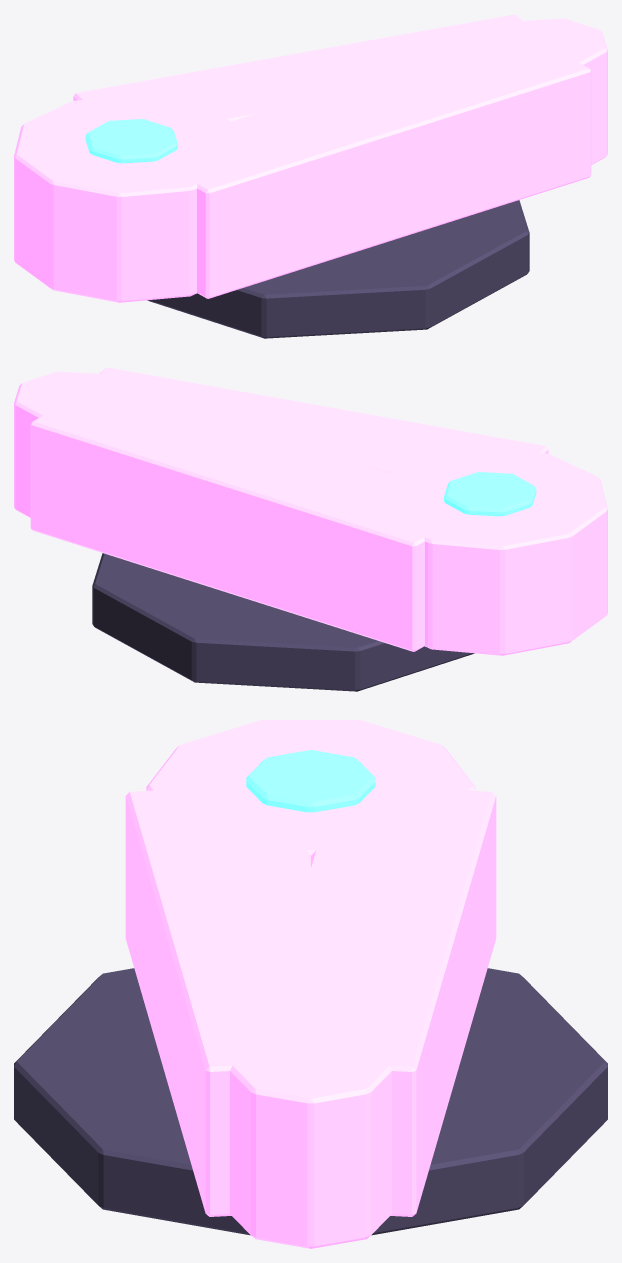
3 views of the same model, one above another, from view 1: azimuth 30°, elevation 25°; view 2: azimuth 150°, elevation 25°; view 3: azimuth 270°, elevation 25° (orthographic). The views are drawn at different scales.
Parts seen in each view (by area): view 1: GiantFlipper; view 2: GiantFlipper; view 3: GiantFlipper.
Boxes of the visible parts, x1,y1,x2,y2 form: GiantFlipper: (14,14,607,338); GiantFlipper: (14,367,607,691); GiantFlipper: (14,720,607,1248).
Bounding box in the file's own units: 2.72 × 0.73 × 1.79.
